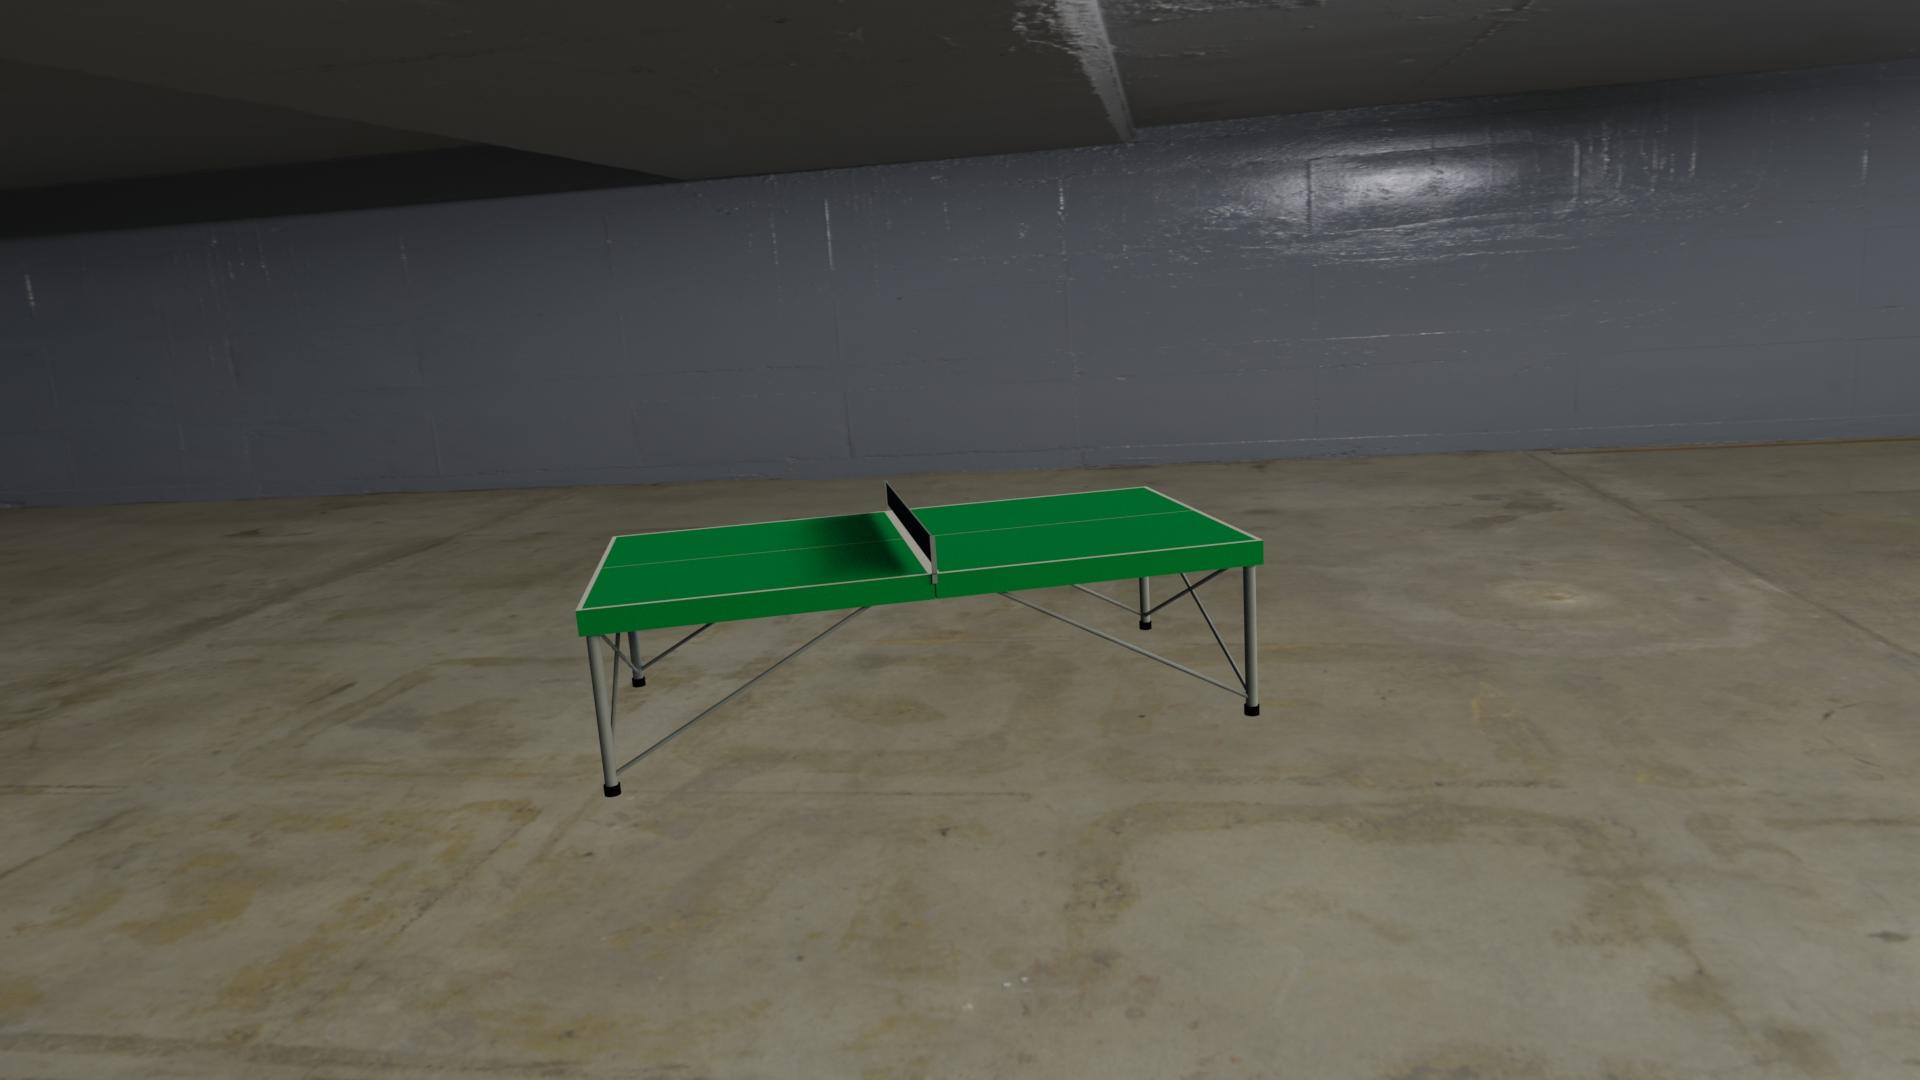table: (582, 488, 1257, 609)
